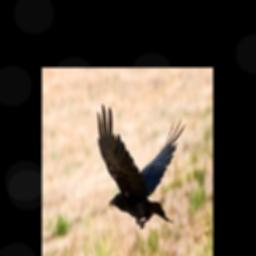Crow: (95, 101, 186, 229)
